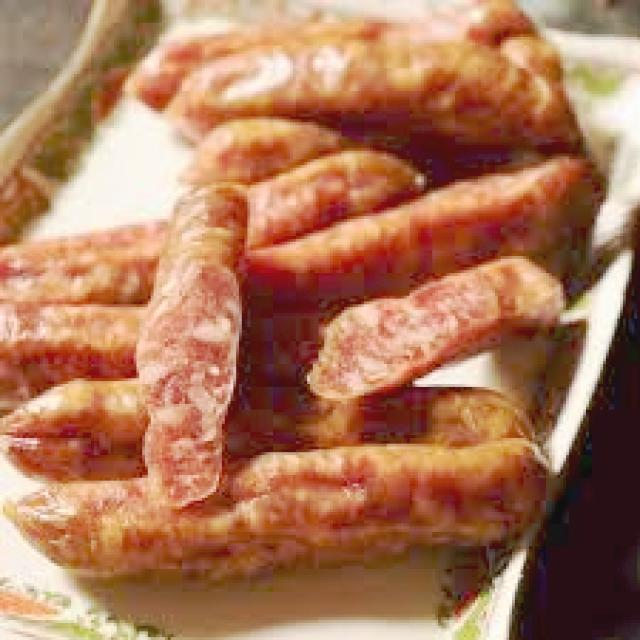chinese_sausage: (0, 0, 606, 586)
